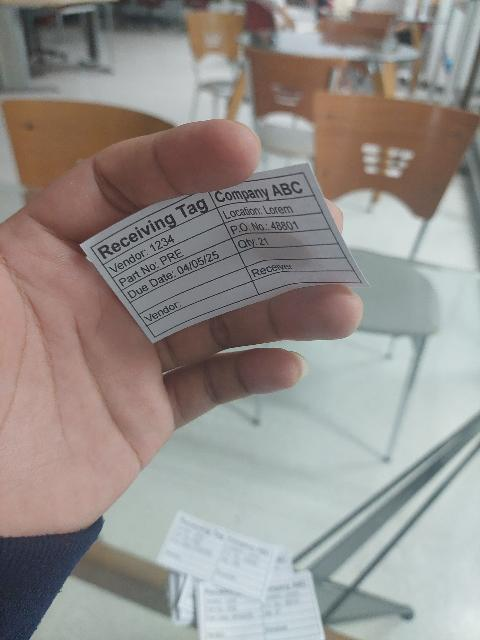PO no: (225, 213, 330, 240)
part no: (112, 222, 233, 292)
qty: (231, 228, 339, 254)
tags: (80, 163, 371, 345)
